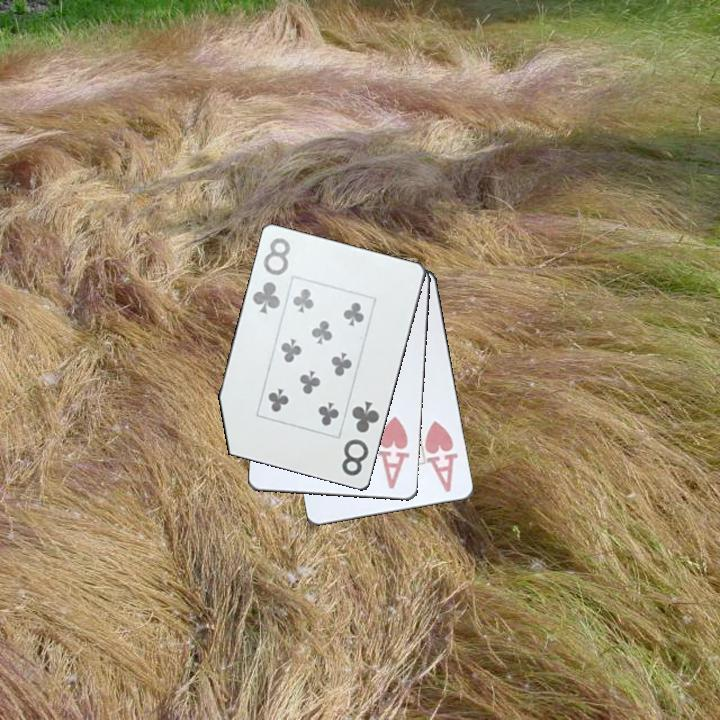8c: (249, 234, 294, 317), (338, 397, 383, 479)
Ah: (422, 417, 461, 495), (377, 413, 413, 492)
